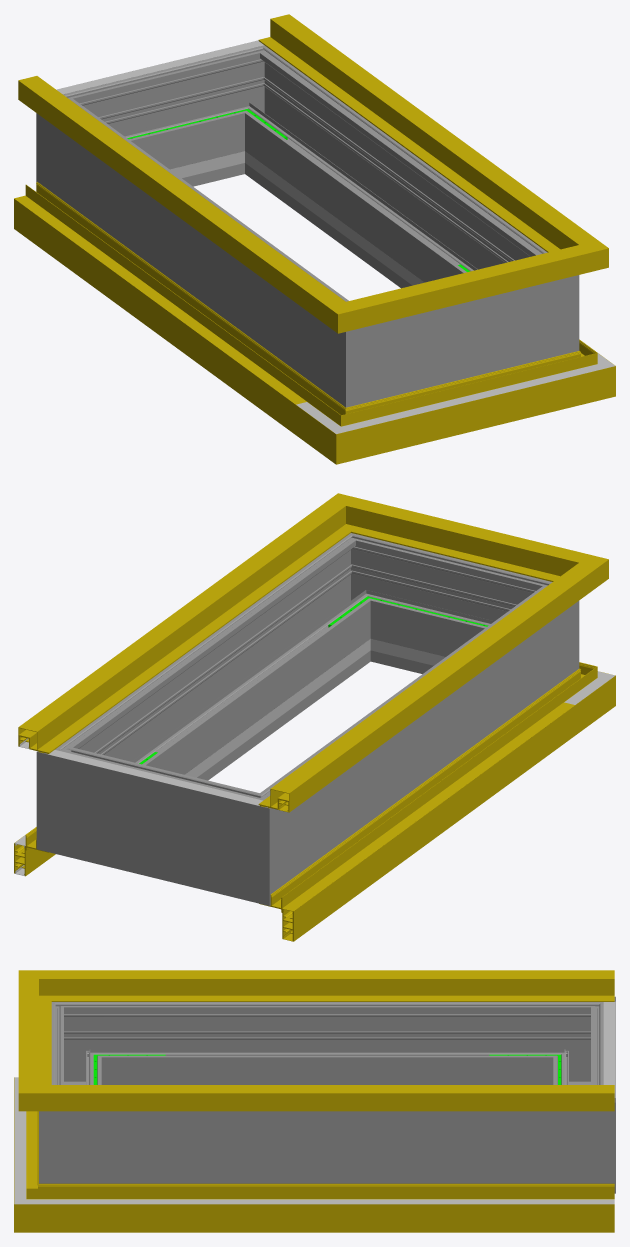
The picture shows the model from 3 angles, top to bottom: view 1: azimuth 30°, elevation 25°; view 2: azimuth 150°, elevation 25°; view 3: azimuth 270°, elevation 25°; orthographic projection. The views are drawn at different scales.
Parts seen in each view (by area): view 1: 3DGeom-297, 3DGeom-268, 3DGeom-85, 3DGeom-128, 3DGeom-118, 3DGeom-276, 3DGeom-270, 3DGeom-298, 3DGeom-90, 3DGeom-284, 3DGeom-290, 3DGeom-86 (+11 smaller); view 2: 3DGeom-297, 3DGeom-268, 3DGeom-85, 3DGeom-128, 3DGeom-118, 3DGeom-278, 3DGeom-276, 3DGeom-298, 3DGeom-284, 3DGeom-290, 3DGeom-123, 3DGeom-270 (+8 smaller); view 3: 3DGeom-268, 3DGeom-297, 3DGeom-97, 3DGeom-118, 3DGeom-128, 3DGeom-284, 3DGeom-290, 3DGeom-278, 3DGeom-270, 3DGeom-92, 3DGeom-98, 3DGeom-120 (+8 smaller).
Part boxes in pixels (x1,y1,x2,y2): 3DGeom-297: [251, 70, 527, 288]; 3DGeom-268: [77, 118, 328, 377]; 3DGeom-85: [14, 182, 318, 434]; 3DGeom-128: [258, 14, 568, 244]; 3DGeom-118: [18, 76, 315, 303]; 3DGeom-276: [113, 57, 233, 186]; 3DGeom-270: [305, 286, 415, 407]; 3DGeom-298: [416, 292, 509, 390]; 3DGeom-90: [393, 362, 545, 447]; 3DGeom-284: [200, 40, 298, 178]; 3DGeom-290: [509, 237, 579, 367]; 3DGeom-86: [295, 388, 405, 464]; 3DGeom-297: [88, 557, 363, 780]; 3DGeom-268: [287, 606, 538, 865]; 3DGeom-85: [259, 688, 575, 941]; 3DGeom-128: [18, 523, 328, 753]; 3DGeom-118: [258, 584, 568, 812]; 3DGeom-278: [199, 773, 309, 905]; 3DGeom-276: [106, 759, 212, 888]; 3DGeom-298: [382, 547, 502, 673]; 3DGeom-284: [36, 725, 119, 866]; 3DGeom-290: [317, 533, 409, 665]; 3DGeom-123: [390, 510, 538, 574]; 3DGeom-270: [475, 570, 579, 697]; 3DGeom-268: [114, 1002, 540, 1084]; 3DGeom-297: [114, 1111, 540, 1183]; 3DGeom-97: [89, 1183, 614, 1232]; 3DGeom-118: [94, 970, 614, 1001]; 3DGeom-128: [94, 1085, 614, 1111]; 3DGeom-284: [540, 1071, 615, 1193]; 3DGeom-290: [39, 1071, 114, 1183]; 3DGeom-278: [540, 996, 615, 1084]; 3DGeom-270: [51, 1002, 114, 1084]; 3DGeom-92: [14, 1162, 89, 1232]; 3DGeom-98: [89, 1199, 614, 1204]; 3DGeom-120: [18, 970, 93, 1018].
Size of the model in its own units: 0.6096 by 0.3069 by 1.22.
